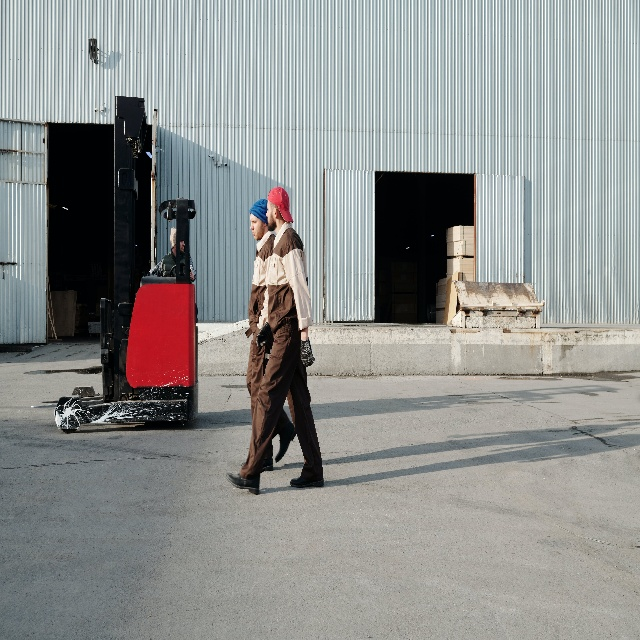Guantes: (255, 320, 273, 348), (300, 336, 315, 368)
Sin_guantes: (189, 268, 195, 280)
